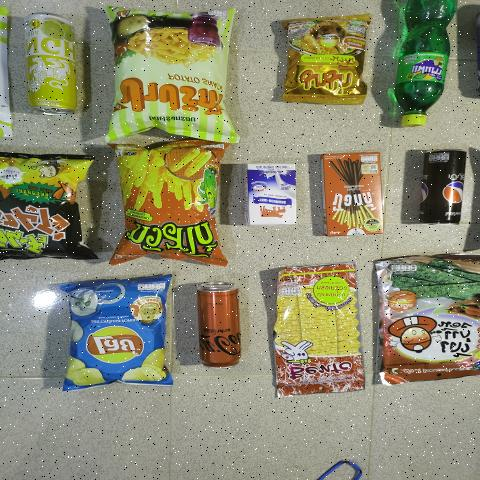bento_red: (278, 276, 358, 392)
coke_red: (191, 286, 240, 370)
fanta_green: (395, 0, 459, 130)
karamujo: (0, 154, 86, 257)
lay_blue: (73, 284, 168, 386)
mama: (290, 16, 363, 102)
paprika: (112, 7, 230, 135)
pepsi_black: (418, 146, 468, 228)
pokki: (325, 151, 381, 235)
singha_yellow: (29, 15, 84, 115)
taokaenoi: (385, 260, 480, 381)
thai_denmark: (245, 164, 300, 225)
twisco: (125, 137, 221, 248)
